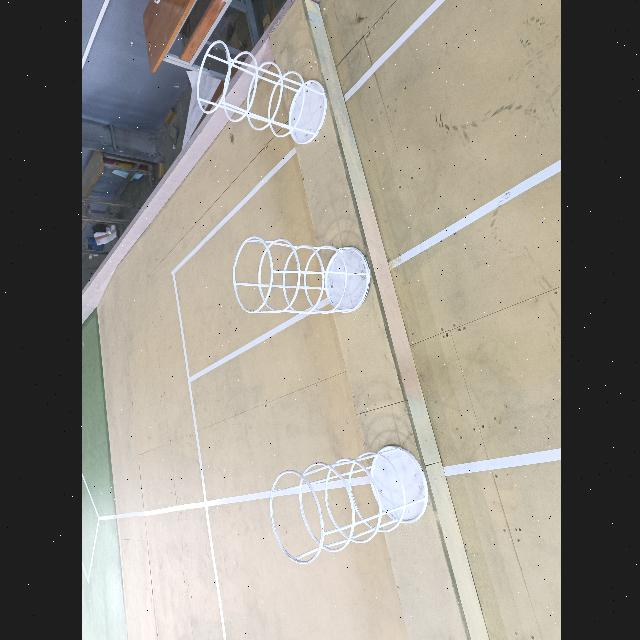S: (268, 444, 428, 564), (195, 40, 326, 145), (231, 234, 371, 316)
